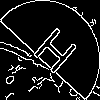H: (25, 25, 80, 83)
